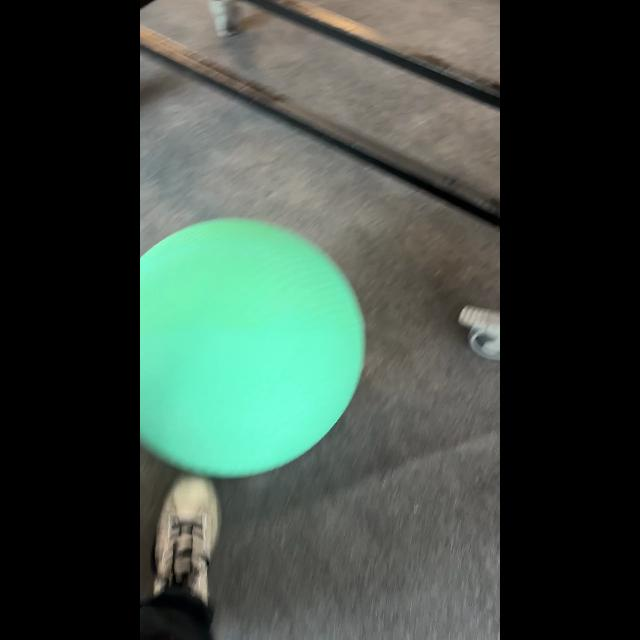ALGAE: (140, 216, 366, 479)
